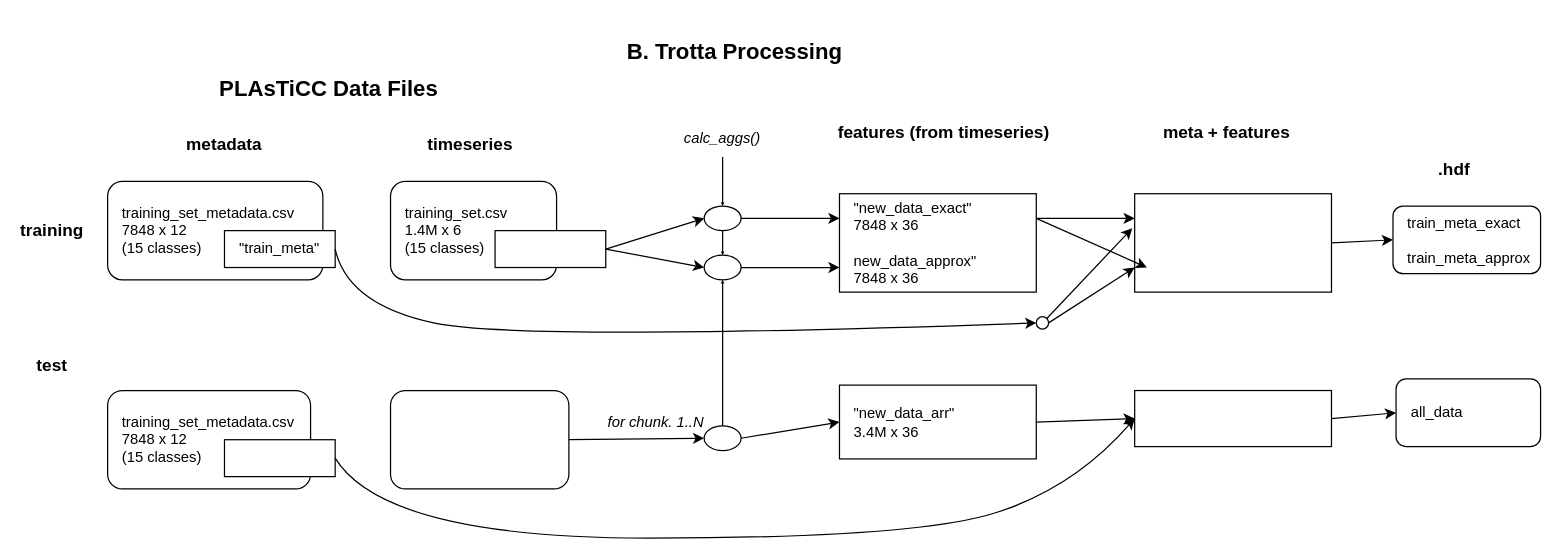
The diagram is 1562 pixels wide and 560 high, and some of its shapes have lost their labels. The box of each missing label's shape, as (x1, y1, x2, y2) in pixels:
"all_meta" 3.4M x 48: (1133, 389, 1331, 447)
"test_meta": (223, 438, 335, 477)
"train": (494, 229, 606, 268)
"train_data_exact" 7848 x 48 train_data_approx" 7848 x 48: (1133, 192, 1331, 292)
test_set.csv (19GB) 510M x 6: (389, 389, 569, 489)
